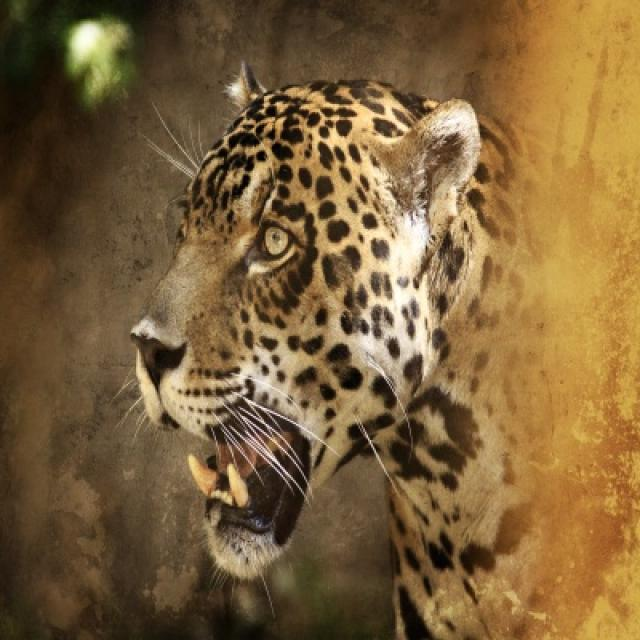Jaguar: (128, 34, 638, 638)
